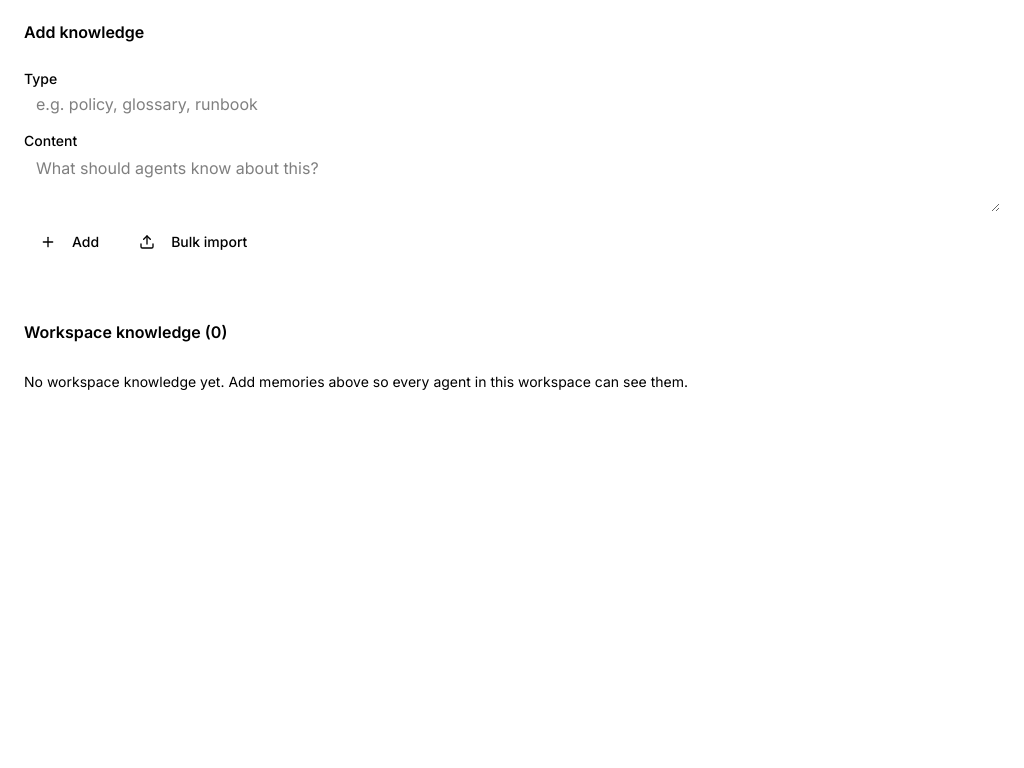
it: InstitutionalKnowledgePanel › surfaces per-entry failures from the create loop
The width and height of the screenshot is (1024, 768).
Click the button with test id "bulk-import-open" at (193, 242), box [123,224,263,260]
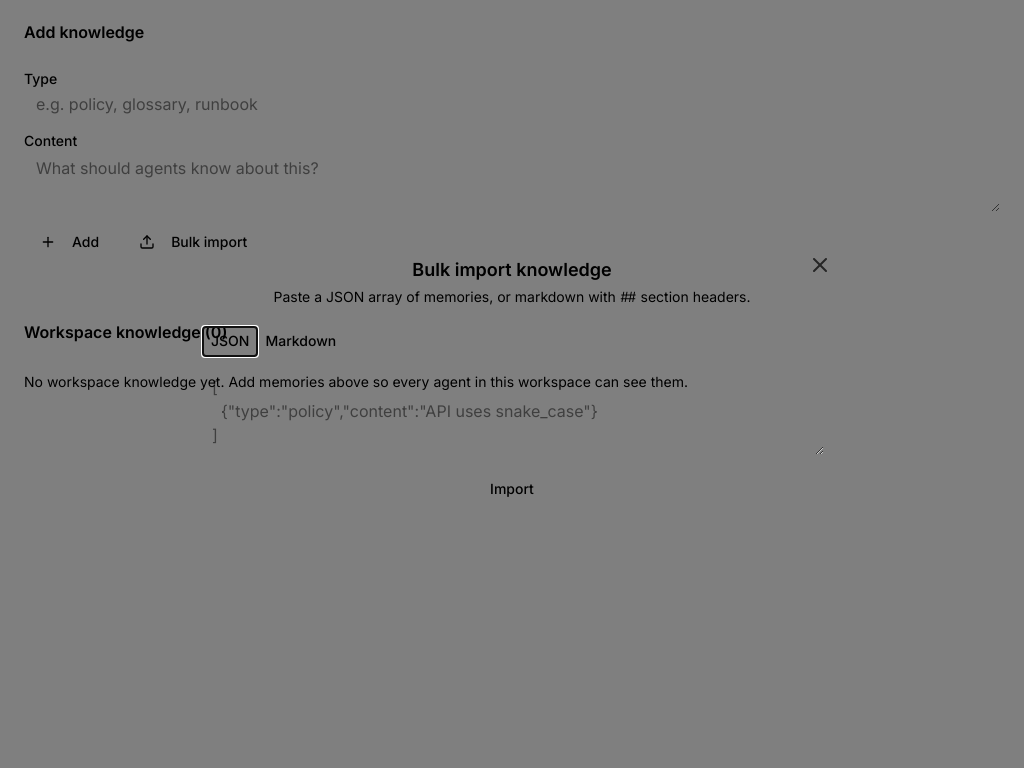
Click the text box with test id "bulk-import-json" at (512, 411), box [200,367,824,455]
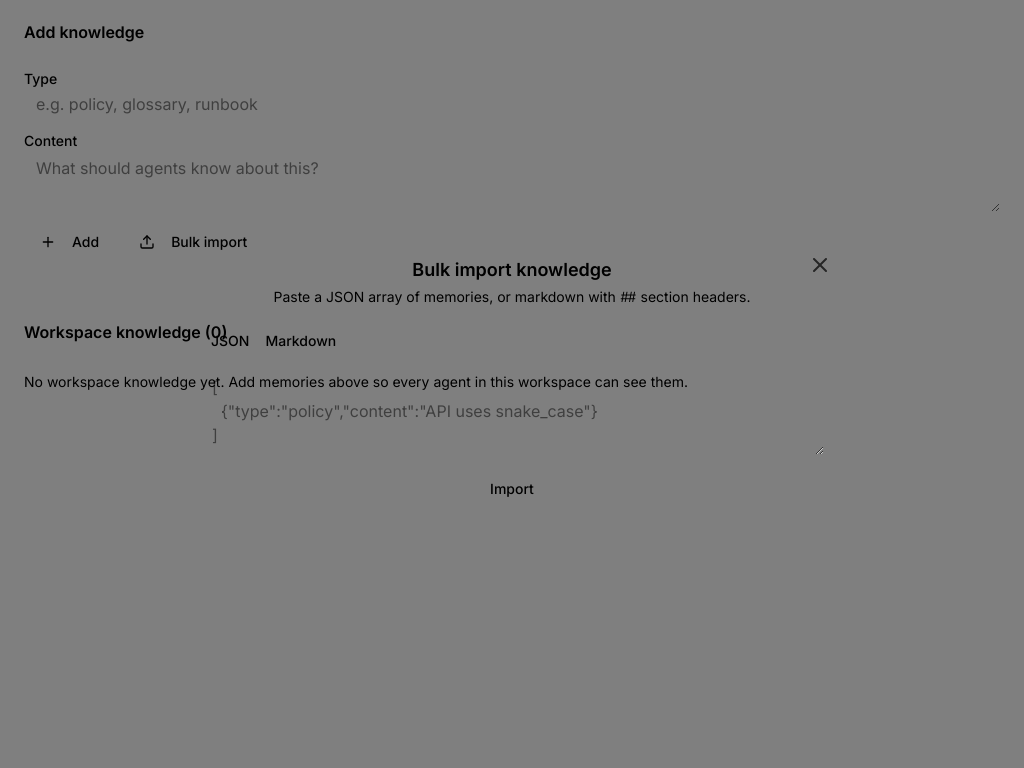
Type keys "[{\"type\":\"policy\",\"content\":\"A\"},{\"type\":\"policy\",\"content\":\"B\"}]"
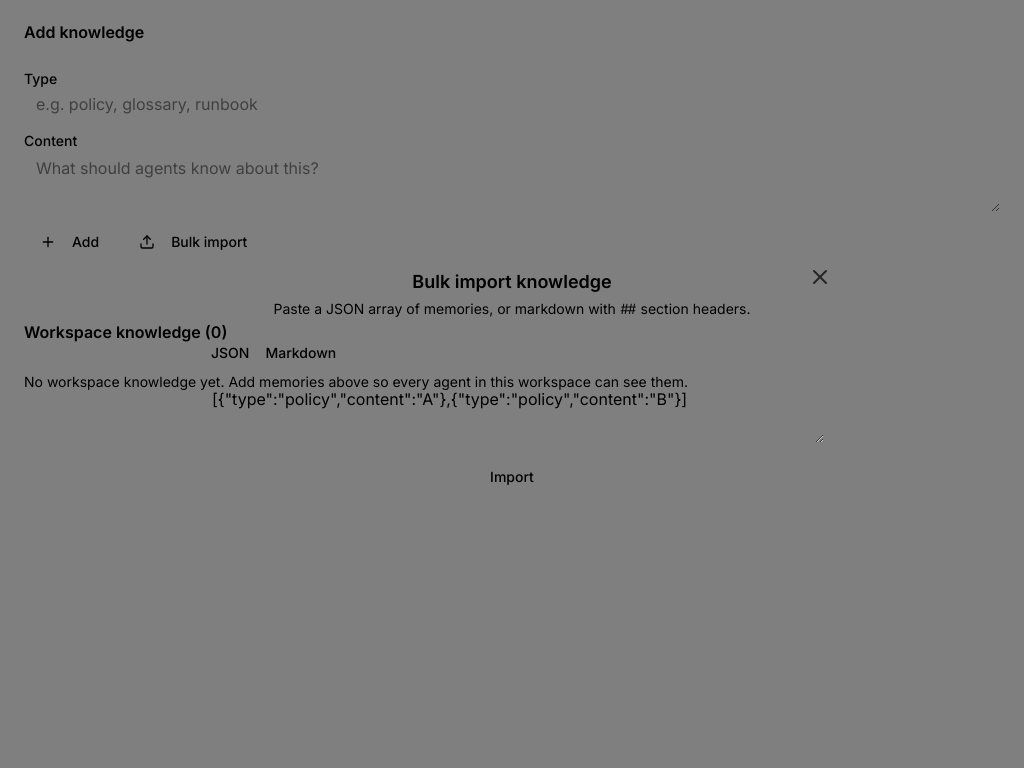
Click the button with test id "bulk-import-submit" at (512, 477), box [200,459,824,495]
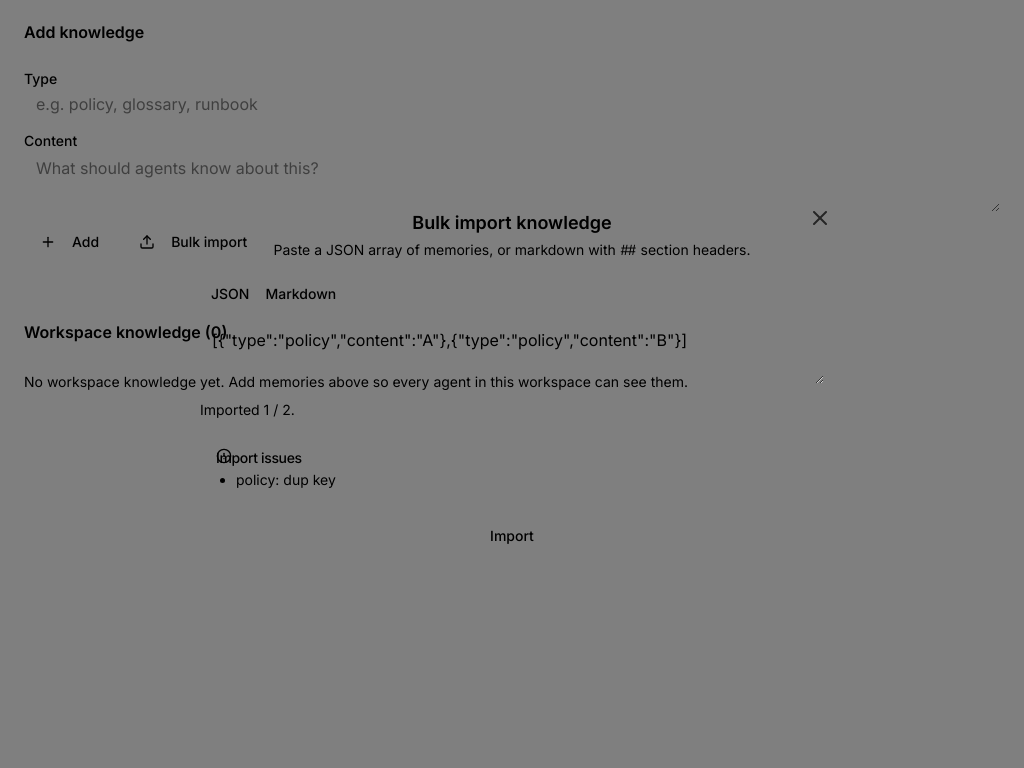
Expected: the text with test id "bulk-import-summary" shows "Imported 1 / 2", [200,401,295,418]
Expected: the element with test id "bulk-import-errors" shows "dup key", [236,471,336,488]
